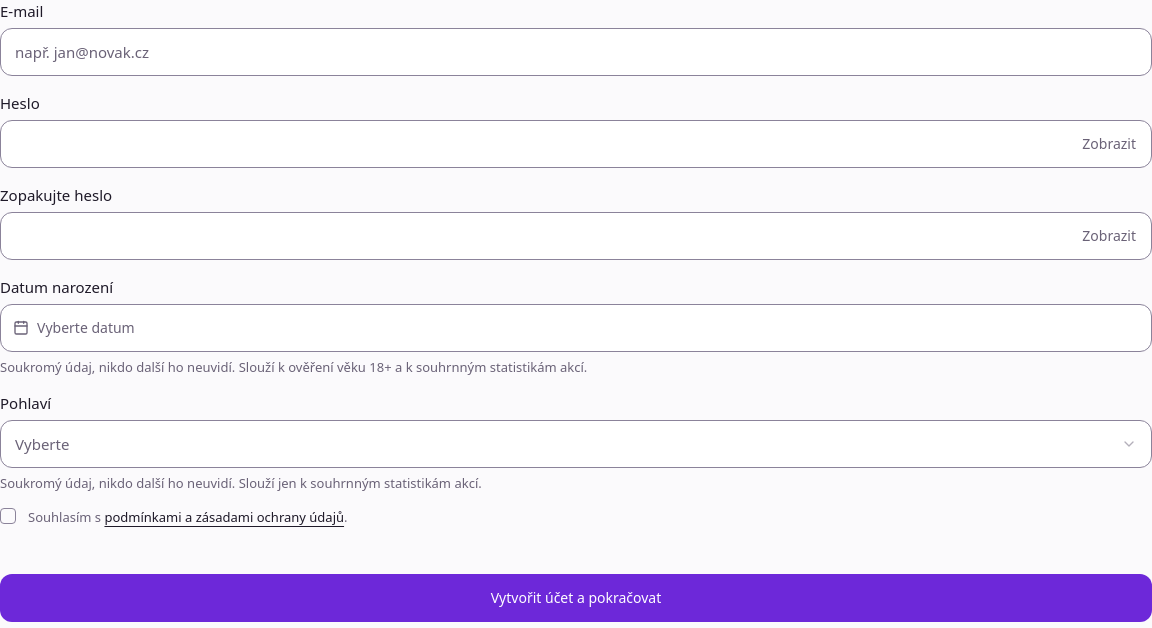
Scenario: SignUpForm › asks for gender, birth date and consent
What coordinates should you click on to do the following:
click the button "Vytvořit účet a pokračovat"
I would click on:
 (576, 598)
Its box is [0, 574, 1151, 622].
(page scrolled)
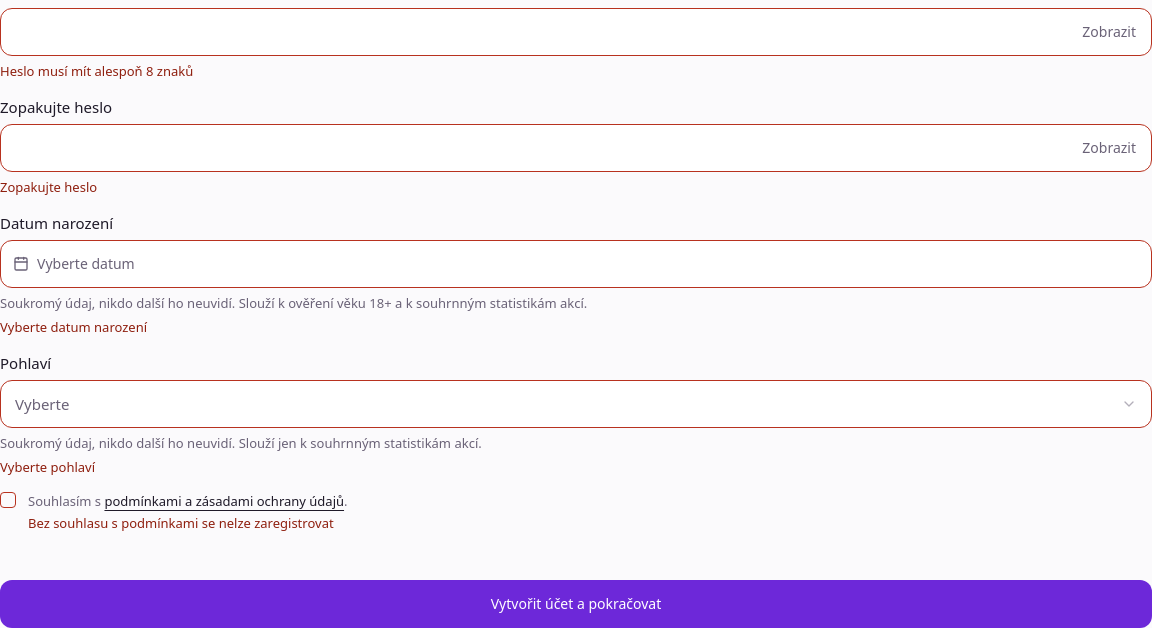
Now the text "Vyberte pohlaví" is shown, box [0, 458, 95, 476]
Now the text "Vyberte datum narození" is shown, box [0, 318, 147, 336]
Now the text "Bez souhlasu s podmínkami se nelze zaregistrovat" is shown, box [28, 514, 348, 532]
